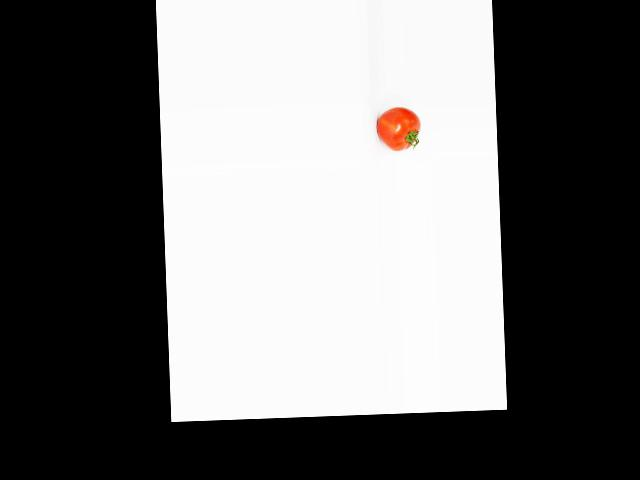tomato: (376, 106, 422, 151)
